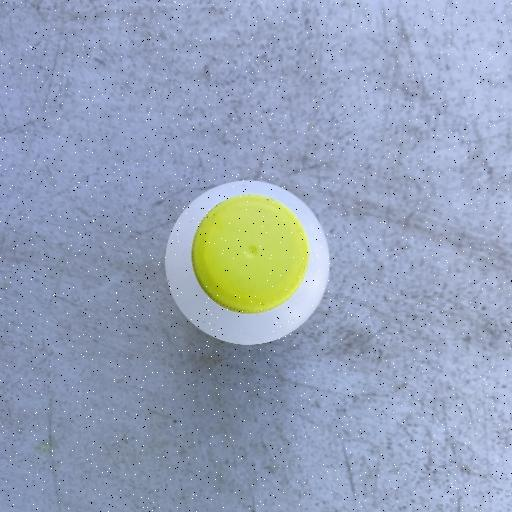Plastic: (163, 178, 331, 346)
